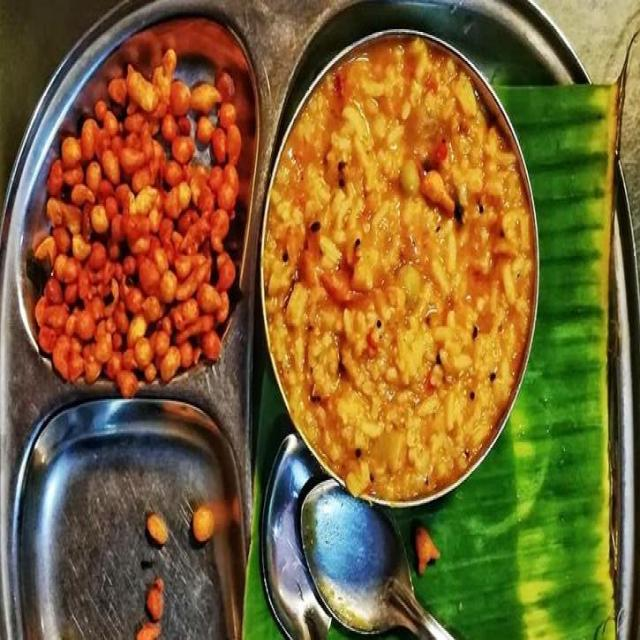bisibele bath: (2, 0, 640, 640), (1, 0, 571, 640)
